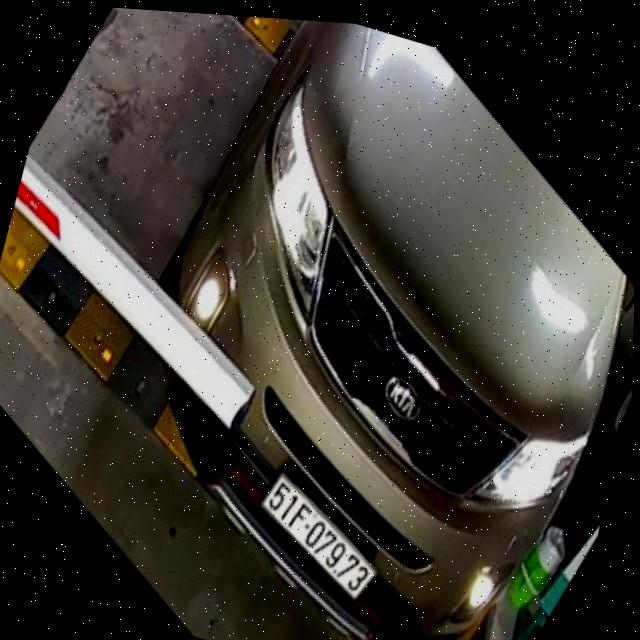car: (147, 20, 631, 640)
plate: (252, 468, 385, 610)
